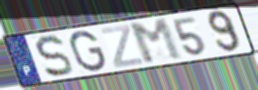5: (170, 14, 209, 56)
9: (208, 9, 243, 55)
G: (68, 30, 108, 74)
M: (127, 16, 186, 66)
S: (34, 33, 76, 79)
Z: (99, 23, 146, 69)
